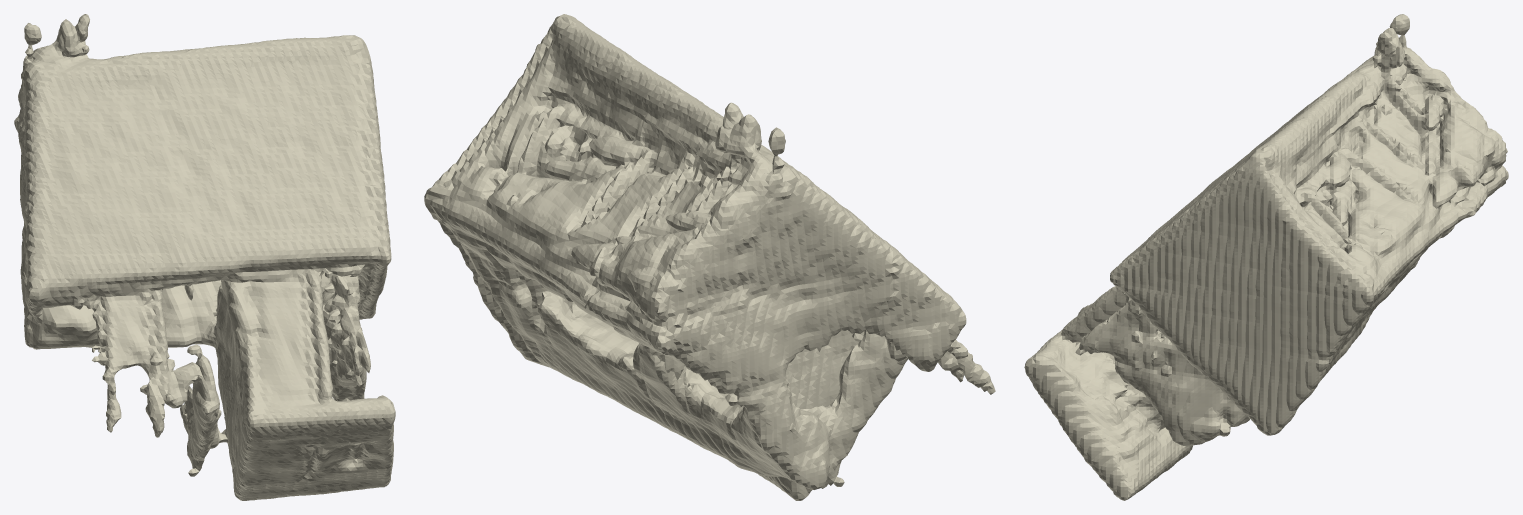
The model's file is raw.glb.
3 views of the same model, side by side, from view 1: azimuth 30°, elevation 25°; view 2: azimuth 150°, elevation 25°; view 3: azimuth 270°, elevation 25° (orthographic). The views are drawn at different scales.
Visible parts, largest first — view 1: world; view 2: world; view 3: world.
Boxes of the visible parts, left/top/right/bottom form: world: left=14, top=14, right=395, bottom=500; world: left=424, top=14, right=995, bottom=500; world: left=1024, top=14, right=1508, bottom=500.
Size of the model in its own units: 1.32 by 1.36 by 1.49.
